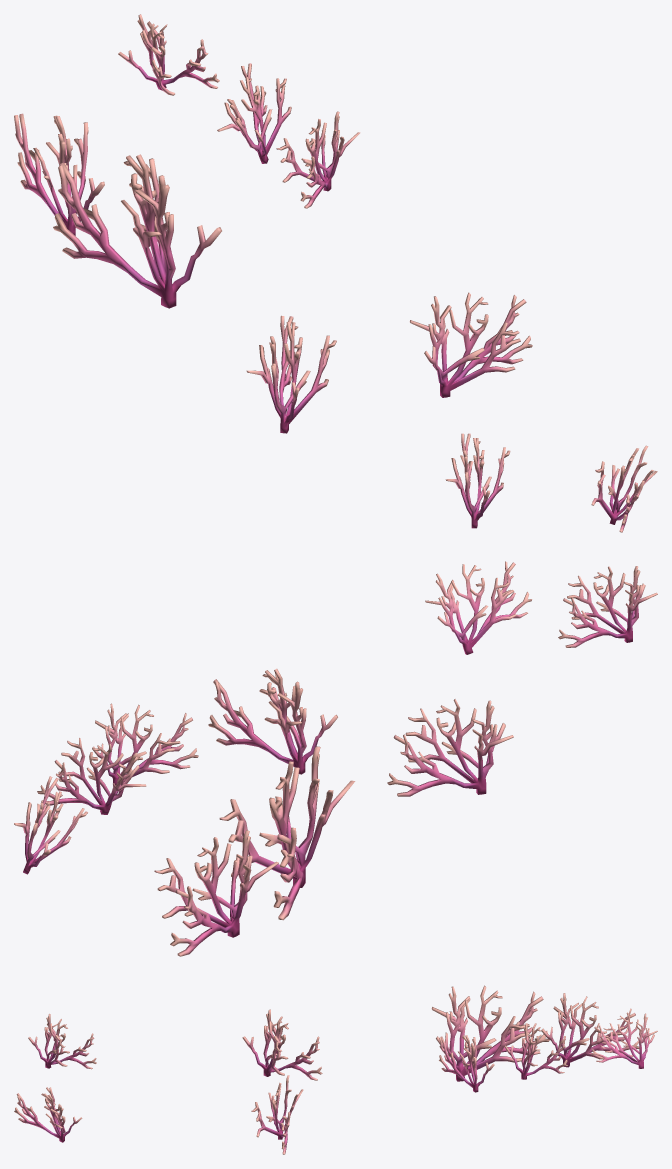
Rendered from stageObject_3.fbx.
3 renders of one model, top to bottom at view 1: azimuth 30°, elevation 25°; view 2: azimuth 150°, elevation 25°; view 3: azimuth 270°, elevation 25°, orthographic. The views are drawn at different scales.
Visible parts, largest first — view 1: sango1_3; view 2: sango1_3; view 3: sango1_3.
Part boxes in pixels (x1,y1,x2,y2): sango1_3: (14, 14, 657, 532); sango1_3: (14, 561, 657, 956); sango1_3: (14, 985, 657, 1154).
Size of the model in its own units: 163 by 99.09 by 474.
Materials: 1 (1 with a texture image).
